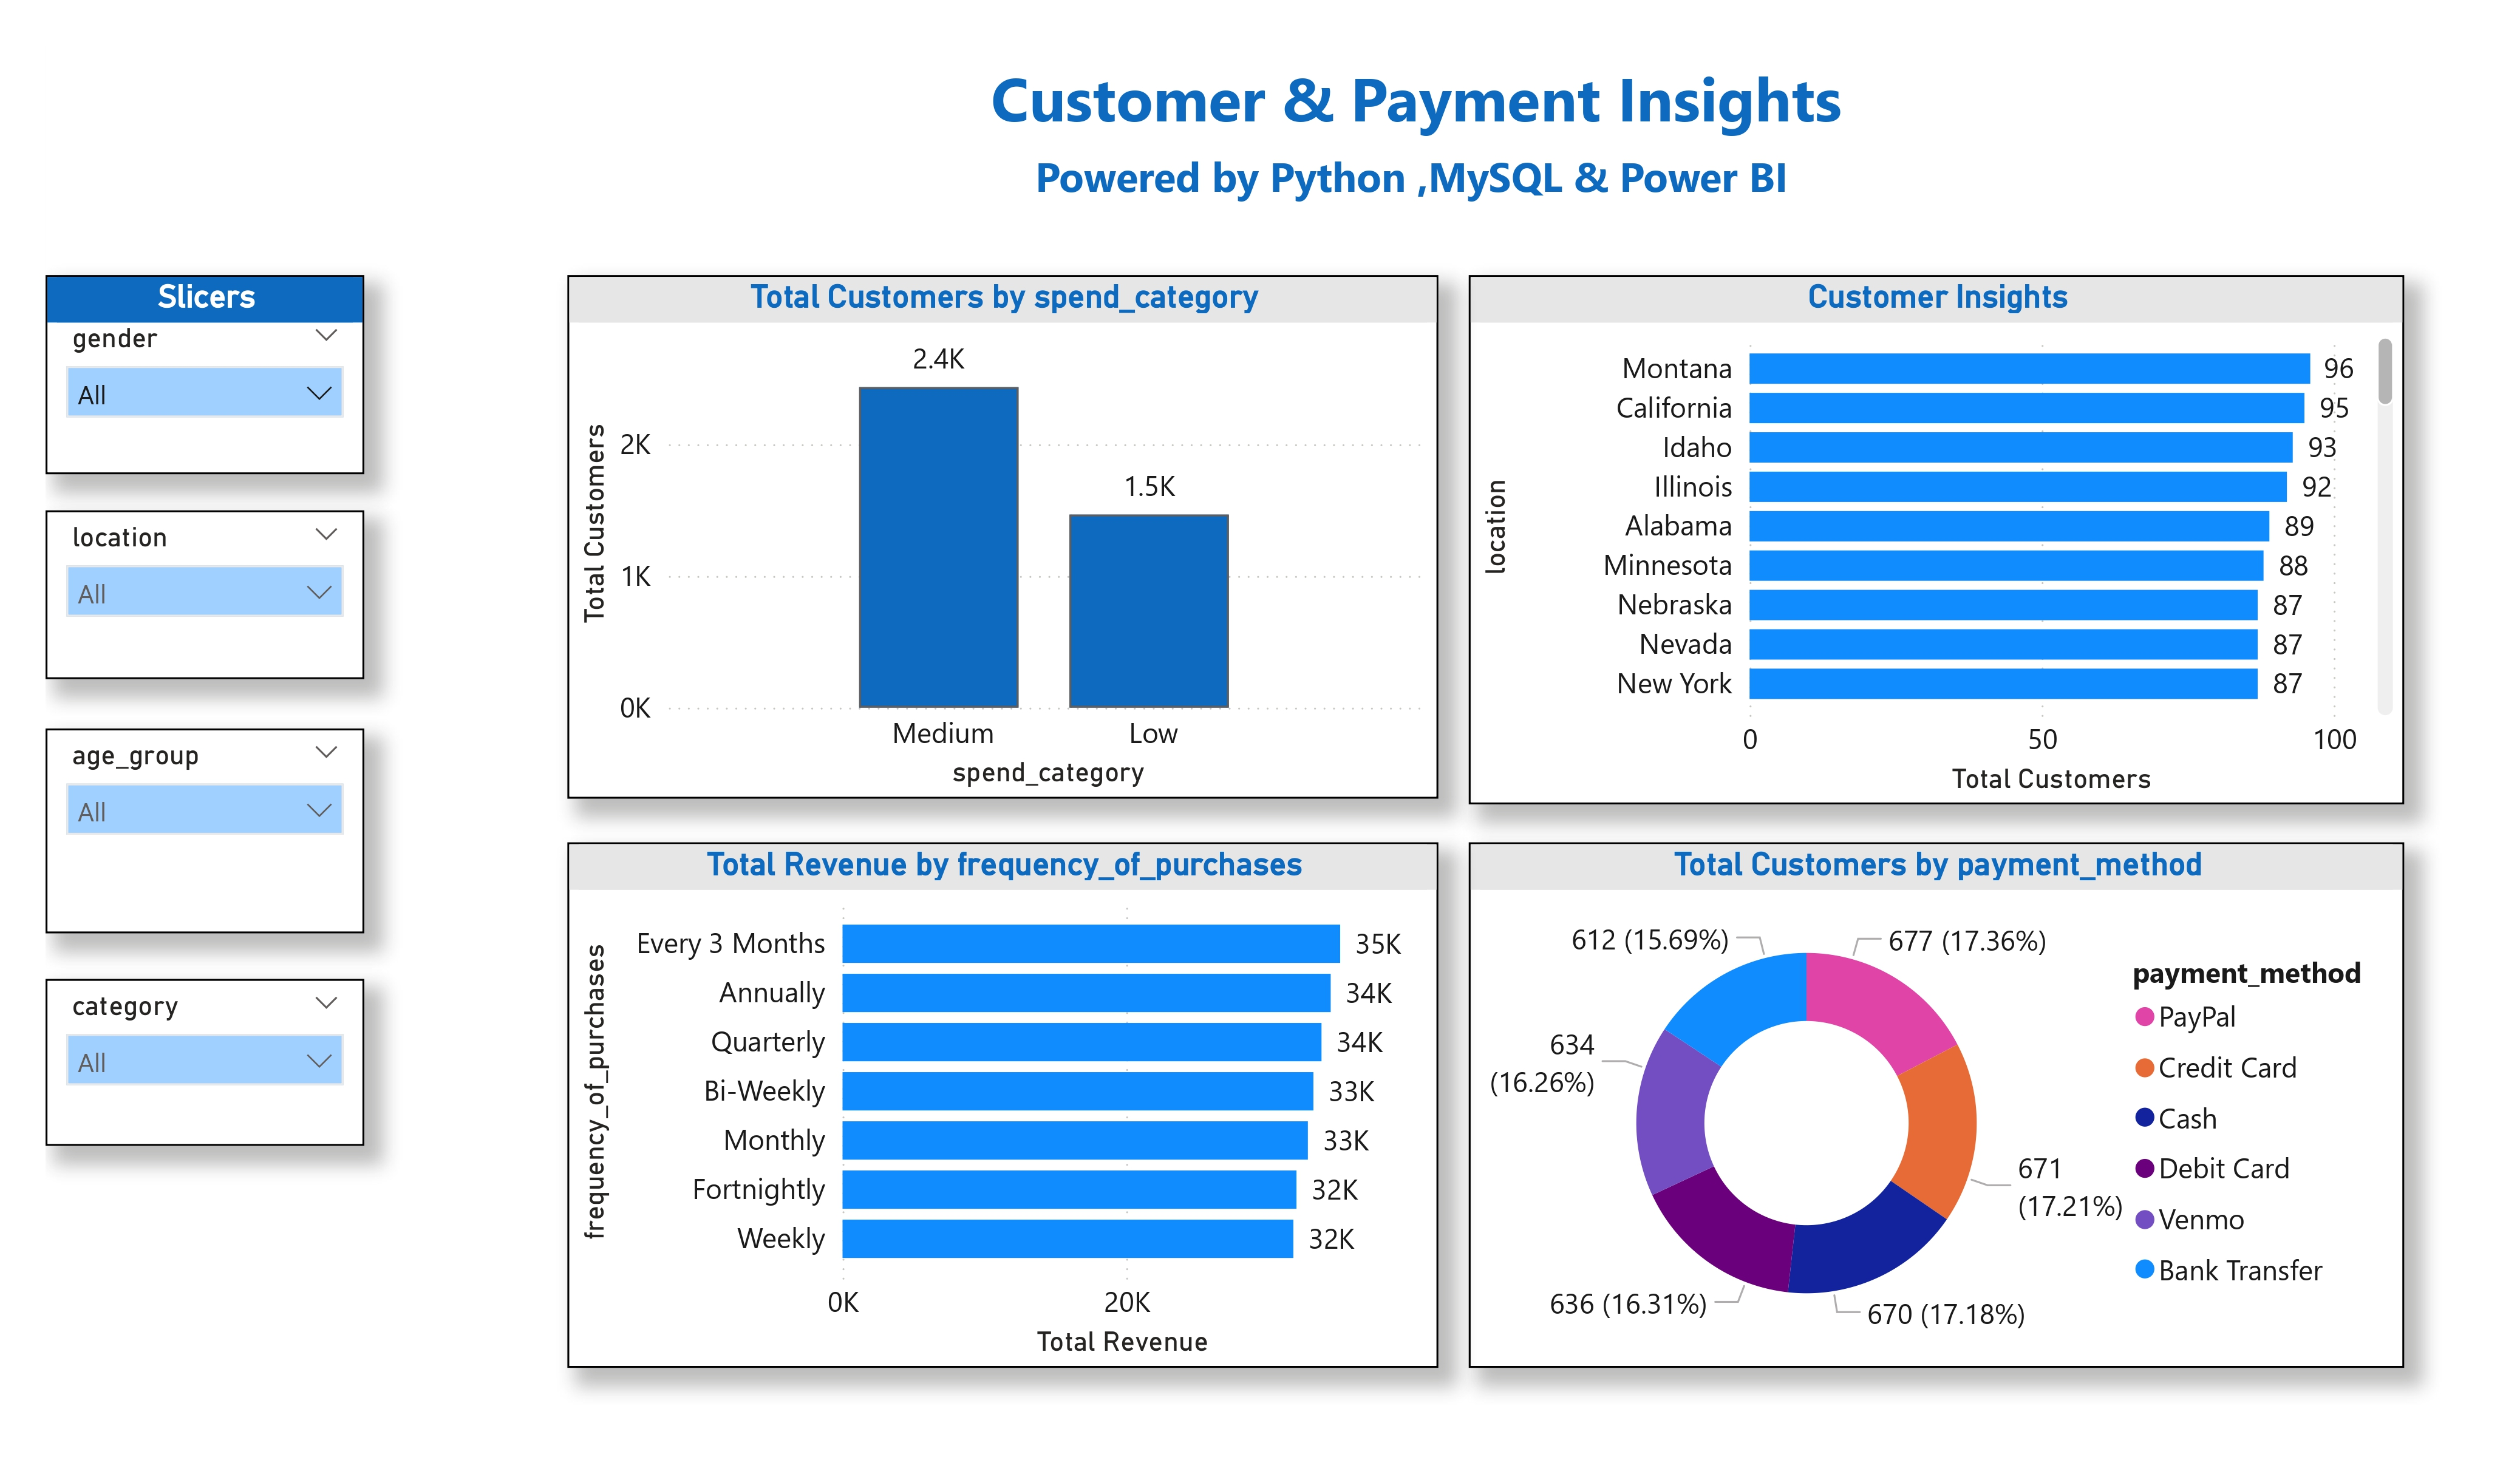

This screenshot's page, from the dashboard's own definition file:
{"tool":"powerbi","page":{"name":"Page 2","canvas":[1280,720],"ordinal":1},"visuals":[{"type":"barChart","title":"Customer Insights","fields":{"Category":["customer_shopping_behavior_clean.location"],"Y":["customer_shopping_behavior_clean.Total Customers"]},"box":[750.2,121,492.5,279.4],"z":0},{"type":"donutChart","title":"Payment Method Usage","fields":{"Category":["customer_shopping_behavior_clean.payment_method"],"Y":["customer_shopping_behavior_clean.Total Customers"]},"box":[750.2,420.5,492.5,276.5],"z":1000},{"type":"columnChart","title":"Customer Spend Segmentation","fields":{"Category":["customer_shopping_behavior_clean.spend_category"],"Y":["customer_shopping_behavior_clean.Total Customers"]},"box":[275,121,459.4,276.5],"z":2000},{"type":"clusteredBarChart","title":"Revenue by Purchase Frequency","fields":{"Category":["customer_shopping_behavior_clean.frequency_of_purchases"],"Y":["customer_shopping_behavior_clean.Total Revenue"]},"box":[275,420.5,459.4,276.5],"z":3000},{"type":"slicer","title":"Slicers","fields":{"Values":["customer_shopping_behavior_clean.gender"]},"box":[0,121,168.5,105.1],"z":4000},{"type":"slicer","fields":{"Values":["customer_shopping_behavior_clean.location"]},"box":[0,244.8,168.5,89.3],"z":5000},{"type":"slicer","fields":{"Values":["customer_shopping_behavior_clean.age_group"]},"box":[0,360,168.5,108],"z":6000},{"type":"slicer","fields":{"Values":["customer_shopping_behavior_clean.category"]},"box":[0,492.5,168.5,87.8],"z":7000},{"type":"textbox","box":[43.2,0,1199.5,64.8],"z":8000},{"type":"textbox","box":[31.7,49,1211,57.6],"z":9000}]}

Visuals, with their boxes in screenshot pixels (x1, y1, x2, y2):
"Customer Insights" barChart: bbox=(1469, 275, 2403, 805)
"Payment Method Usage" donutChart: bbox=(1469, 843, 2403, 1368)
"Customer Spend Segmentation" columnChart: bbox=(567, 275, 1439, 800)
"Revenue by Purchase Frequency" clusteredBarChart: bbox=(567, 843, 1439, 1368)
"Slicers" slicer: bbox=(46, 275, 366, 475)
slicer - customer_shopping_behavior_clean.location: bbox=(46, 510, 366, 679)
slicer - customer_shopping_behavior_clean.age_group: bbox=(46, 728, 366, 934)
slicer - customer_shopping_behavior_clean.category: bbox=(46, 980, 366, 1146)
textbox: bbox=(128, 46, 2403, 169)
textbox: bbox=(106, 138, 2403, 248)
